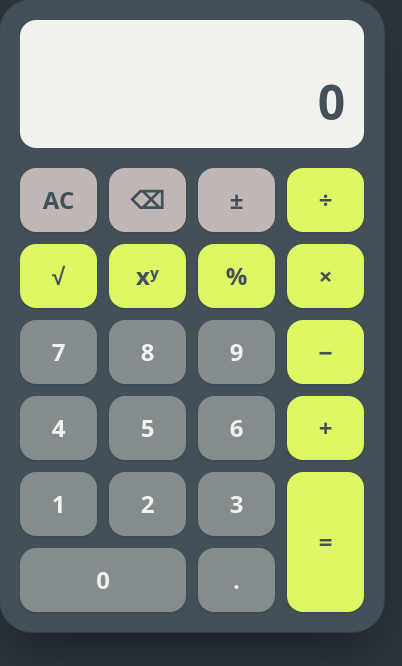
Calculator › evaluates a chain from left to right
The width and height of the screenshot is (402, 666).
Click the button "2". click: (148, 504)
box: [109, 472, 186, 536]
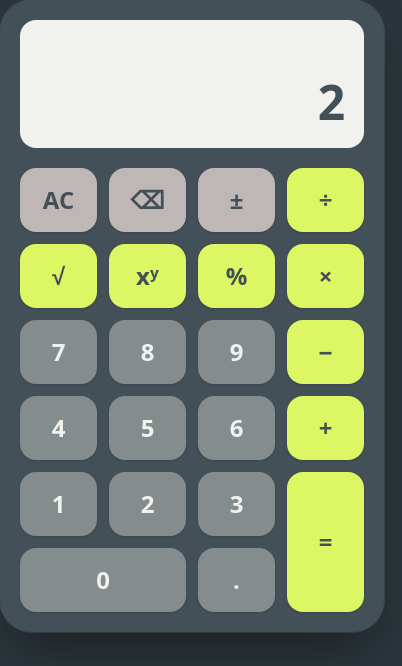
Click the button named "Add". click: (326, 428)
box: [287, 396, 364, 460]
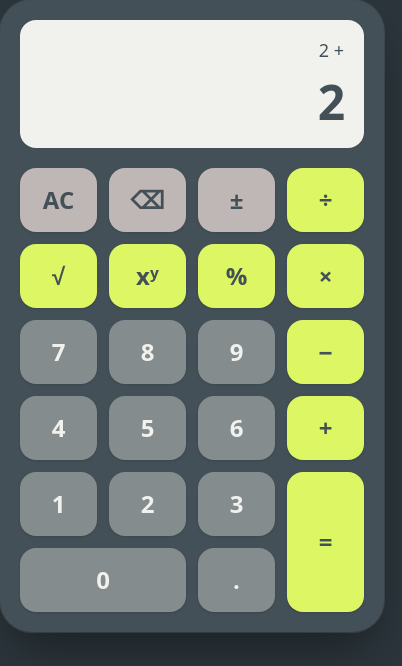
Click the button "3". click: (236, 504)
box: [198, 472, 275, 536]
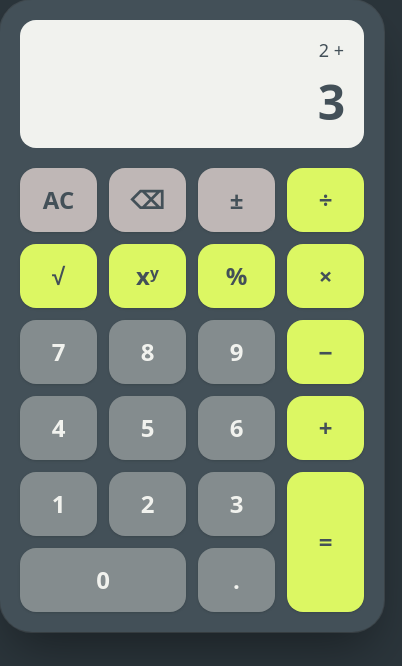
Click the button named "Multiply". click: (326, 276)
box: [287, 244, 364, 308]
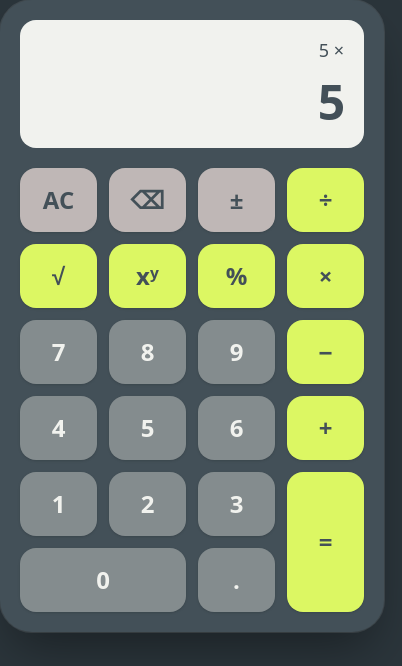
Click the button "4". click: (58, 428)
box: [20, 396, 97, 460]
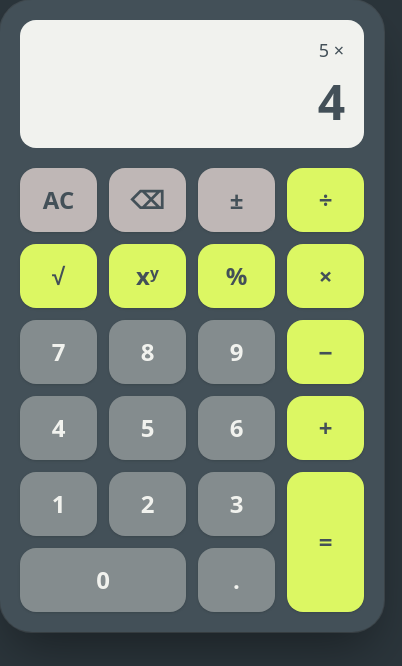
Click the button named "Equals". click: (326, 542)
box: [287, 472, 364, 612]
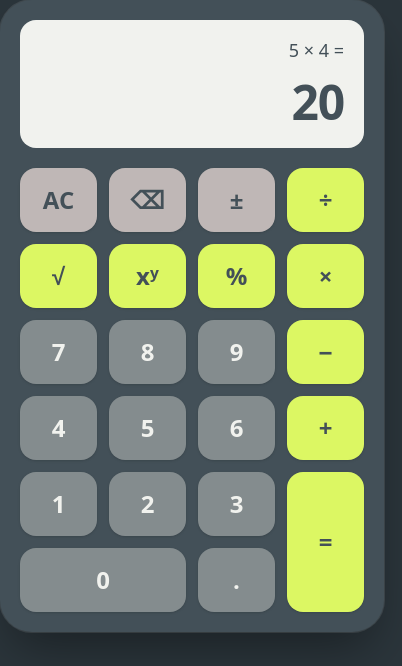
Result: the text "20" is shown at [292, 69, 344, 134]
Result: the text "5 × 4 =" is shown at [289, 36, 344, 64]
